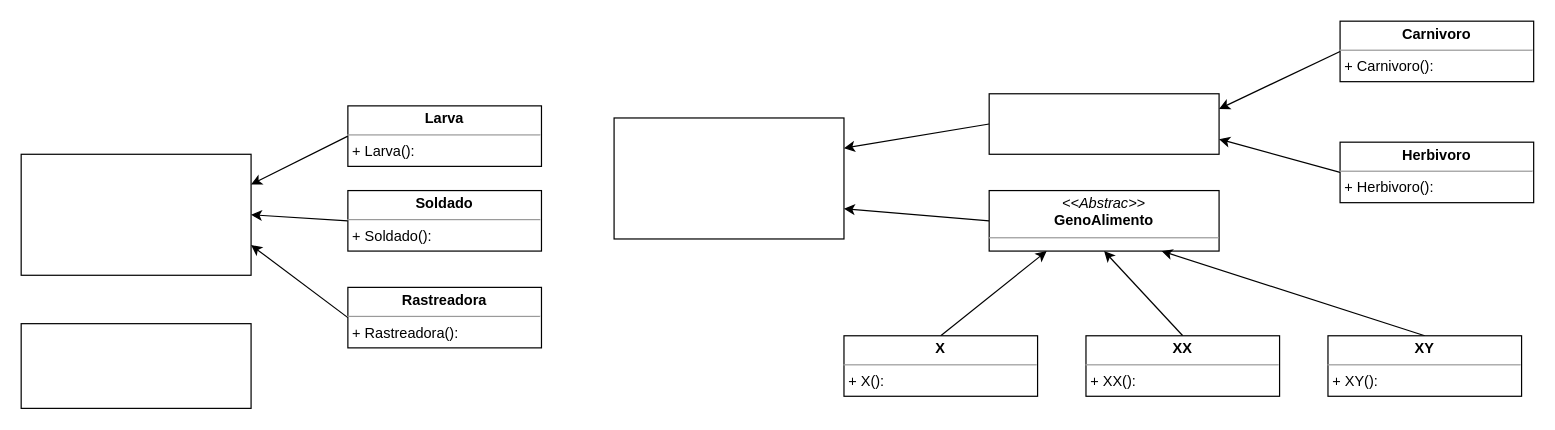
This 1555x430 diagram has some shape labels left out. Here are the shapes that lost their labels. From the top down, the centre of each, then its label:
the point at 1103,123: <<Abstrac>> IngestaNativa
the point at 728,178: <<Abstrac>> Alimento # tipo: String + toString (): String
the point at 135,214: <<Abstrac>> Hormiga # tipo: String + toString (): String
the point at 135,365: <<Interface>> IHormiga + comer(Alimento): String
